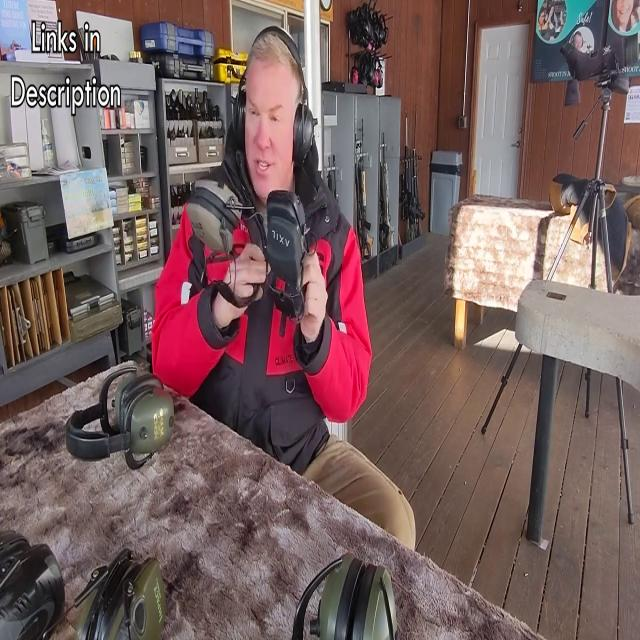earmuff: (183, 196, 237, 268), (266, 214, 306, 295), (192, 168, 247, 224), (291, 98, 319, 170), (228, 87, 248, 145)
